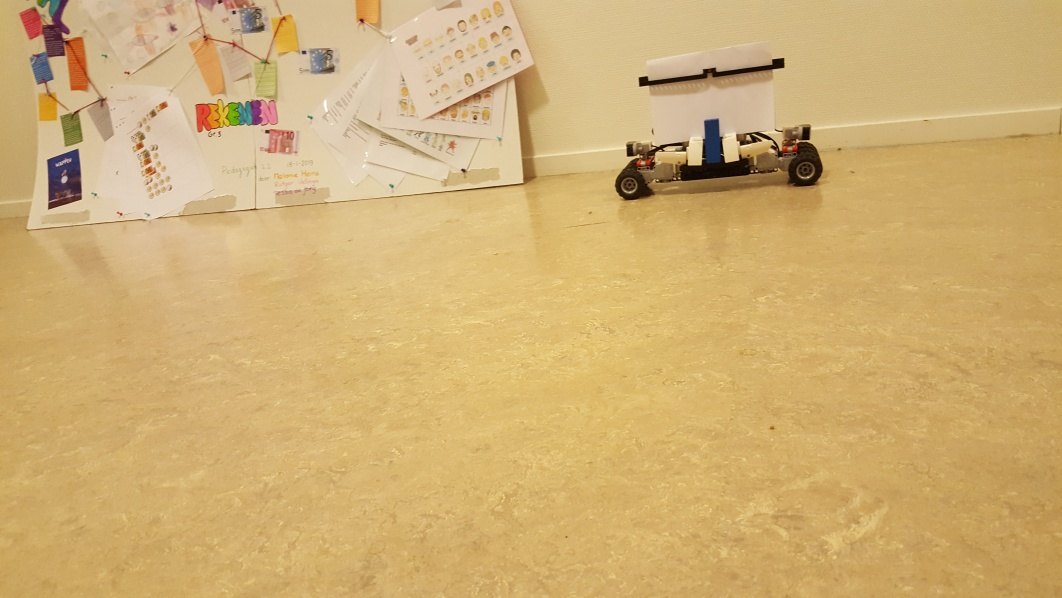beam: (702, 116, 722, 166)
